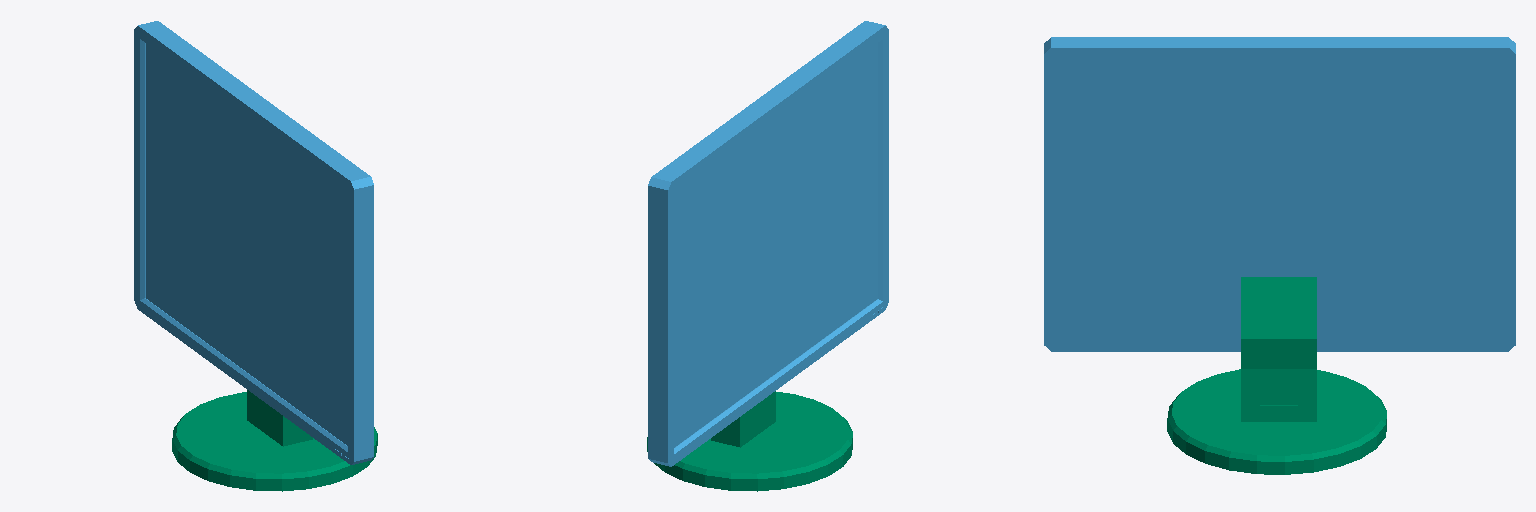
URDF robot description (partnet_1e9d554d26d4195f37ec10b15648a127):
<?xml version="1.0" ?>
<robot name="partnet_1e9d554d26d4195f37ec10b15648a127">
	<link name="base"/>
	<link name="link_0">
		<visual name="frame-6">
			<origin xyz="-0.10824080710766504 0.550564 0.22577473745702736"/>
			<geometry>
				<mesh filename="textured_objs/new-1.obj"/>
			</geometry>
		</visual>
		<visual name="frame-6">
			<origin xyz="-0.10824080710766504 0.550564 0.22577473745702736"/>
			<geometry>
				<mesh filename="textured_objs/original-7.obj"/>
			</geometry>
		</visual>
		<visual name="frame-6">
			<origin xyz="-0.10824080710766504 0.550564 0.22577473745702736"/>
			<geometry>
				<mesh filename="textured_objs/original-6.obj"/>
			</geometry>
		</visual>
		<visual name="screen-7">
			<origin xyz="-0.10824080710766504 0.550564 0.22577473745702736"/>
			<geometry>
				<mesh filename="textured_objs/new-0.obj"/>
			</geometry>
		</visual>
		<collision>
			<origin xyz="-0.10824080710766504 0.550564 0.22577473745702736"/>
			<geometry>
				<mesh filename="textured_objs/new-1.obj"/>
			</geometry>
		</collision>
		<collision>
			<origin xyz="-0.10824080710766504 0.550564 0.22577473745702736"/>
			<geometry>
				<mesh filename="textured_objs/original-7.obj"/>
			</geometry>
		</collision>
		<collision>
			<origin xyz="-0.10824080710766504 0.550564 0.22577473745702736"/>
			<geometry>
				<mesh filename="textured_objs/original-6.obj"/>
			</geometry>
		</collision>
		<collision>
			<origin xyz="-0.10824080710766504 0.550564 0.22577473745702736"/>
			<geometry>
				<mesh filename="textured_objs/new-0.obj"/>
			</geometry>
		</collision>
	</link>
	<joint name="joint_0" type="prismatic">
		<origin xyz="0.10824080710766504 -0.550564 -0.22577473745702736"/>
		<axis xyz="0 -1 0"/>
		<child link="link_0"/>
		<parent link="link_1"/>
		<limit lower="0" upper="0.2200000000000002"/>
	</joint>
	<link name="link_1">
		<visual name="base_support-4">
			<origin xyz="0 0 0"/>
			<geometry>
				<mesh filename="textured_objs/original-4.obj"/>
			</geometry>
		</visual>
		<visual name="surface-5">
			<origin xyz="0 0 0"/>
			<geometry>
				<mesh filename="textured_objs/original-2.obj"/>
			</geometry>
		</visual>
		<collision>
			<origin xyz="0 0 0"/>
			<geometry>
				<mesh filename="textured_objs/original-4.obj"/>
			</geometry>
		</collision>
		<collision>
			<origin xyz="0 0 0"/>
			<geometry>
				<mesh filename="textured_objs/original-2.obj"/>
			</geometry>
		</collision>
	</link>
	<joint name="joint_1" type="fixed">
		<origin rpy="1.570796326794897 0 -1.570796326794897" xyz="0 0 0"/>
		<child link="link_1"/>
		<parent link="base"/>
	</joint>
</robot>

--- What the picture shows (computed from the rendered views, not written in the file) ---
3 views of the same robot in one strip: view 1: azimuth 30°, elevation 25°; view 2: azimuth 150°, elevation 25°; view 3: azimuth 270°, elevation 25° (orthographic).
Robot: partnet_1e9d554d26d4195f37ec10b15648a127 — 3 links, 2 joints (1 prismatic, 1 fixed); root link base; default pose: all joints at 0.
Visible links, largest first — view 1: link_0, link_1; view 2: link_0, link_1; view 3: link_0, link_1.
Link boxes in pixels (box(x1,y1,x2,y2)): link_0: box(134, 21, 373, 464); link_1: box(172, 390, 377, 491); link_0: box(648, 21, 888, 466); link_1: box(647, 391, 852, 491); link_0: box(1044, 37, 1515, 351); link_1: box(1167, 277, 1386, 474).
Bounding box of the posed robot: 0.6957 × 1.49 × 1.31 m (x, y, z).
Meshes: 6 distinct files referenced, 6 mesh visuals loaded (6 OBJ).
